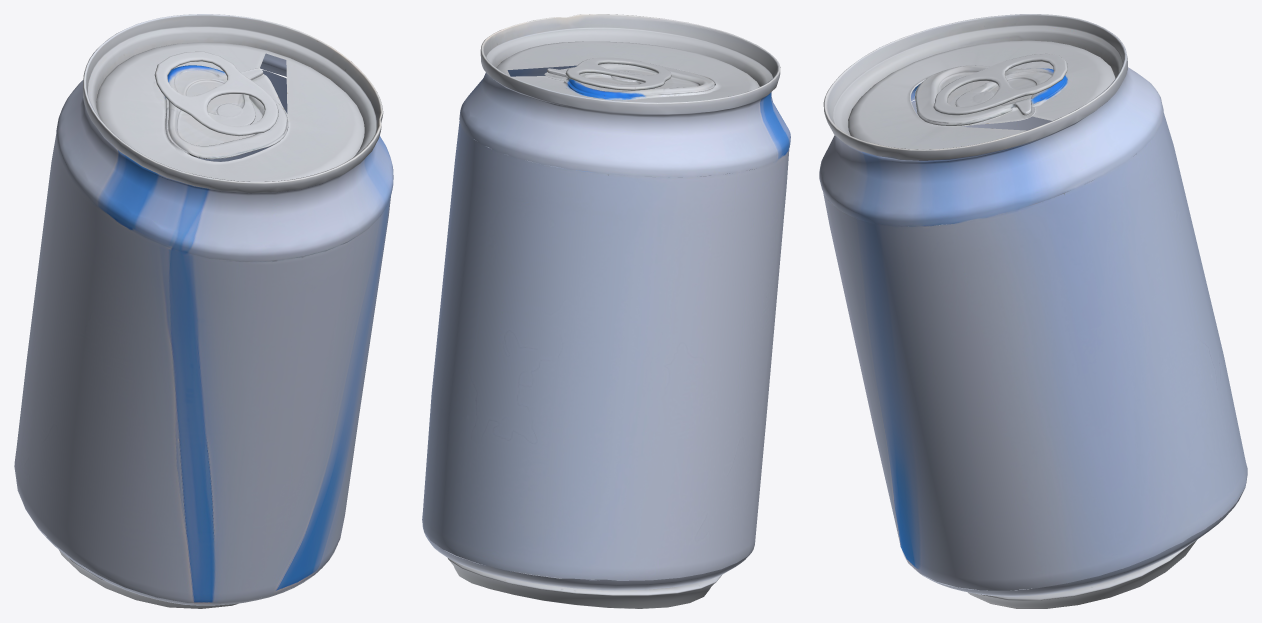
File: can.glb
3 renders of one model, left to right at view 1: azimuth 30°, elevation 25°; view 2: azimuth 150°, elevation 25°; view 3: azimuth 270°, elevation 25°, orthographic.
Parts seen in each view (by area): view 1: tripo_node_af55bf93-d81e-49cd-a85c-666ef23cb9ca; view 2: tripo_node_af55bf93-d81e-49cd-a85c-666ef23cb9ca; view 3: tripo_node_af55bf93-d81e-49cd-a85c-666ef23cb9ca.
Boxes of the visible parts, bbox=[...] form: tripo_node_af55bf93-d81e-49cd-a85c-666ef23cb9ca: bbox=[14, 14, 393, 608]; tripo_node_af55bf93-d81e-49cd-a85c-666ef23cb9ca: bbox=[422, 14, 790, 608]; tripo_node_af55bf93-d81e-49cd-a85c-666ef23cb9ca: bbox=[819, 14, 1247, 608].
Bounding box in the file's own units: 0.5711 × 1 × 0.7518.
1 material, 1 textured.
